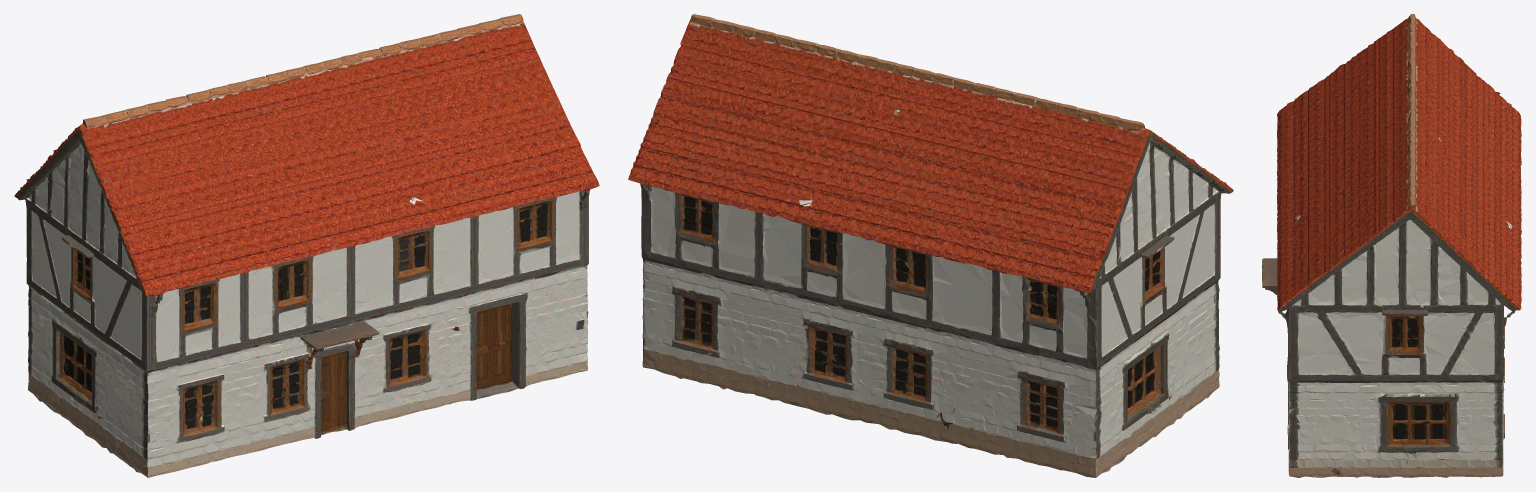
Rendered from roman_strip_building_a.meshy.reduced.glb.
3 views of the same model, side by side, from view 1: azimuth 30°, elevation 25°; view 2: azimuth 150°, elevation 25°; view 3: azimuth 270°, elevation 25° (orthographic). The views are drawn at different scales.
Bounding box in the file's own units: 1.9 × 1.22 × 1.05.
Materials: 1 (1 with a texture image).
